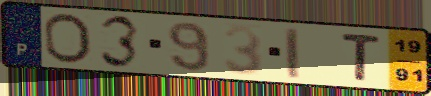3: (96, 14, 149, 70), (222, 23, 265, 76)
9: (165, 20, 212, 73)
I: (283, 25, 302, 80)
O: (42, 11, 95, 65)
T: (339, 31, 384, 83)
